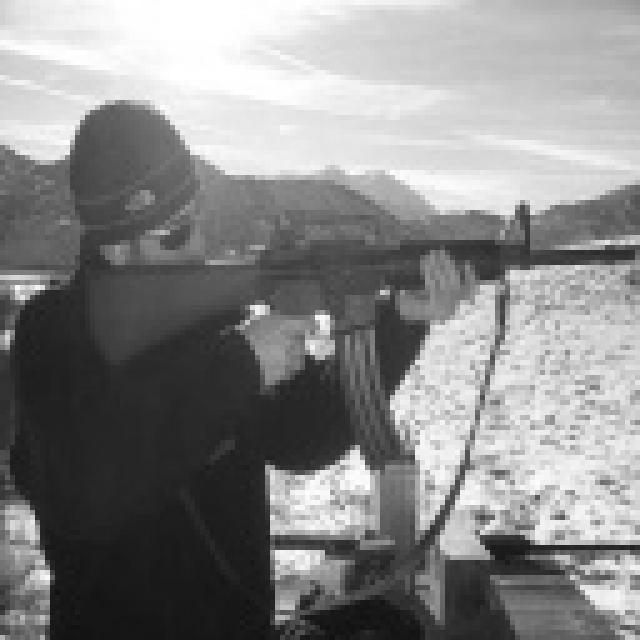Rifle: (57, 193, 640, 518)
